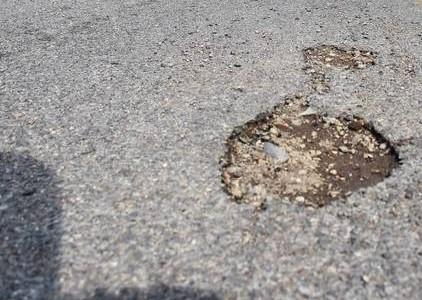pothole: (202, 83, 407, 222), (296, 31, 382, 78)
